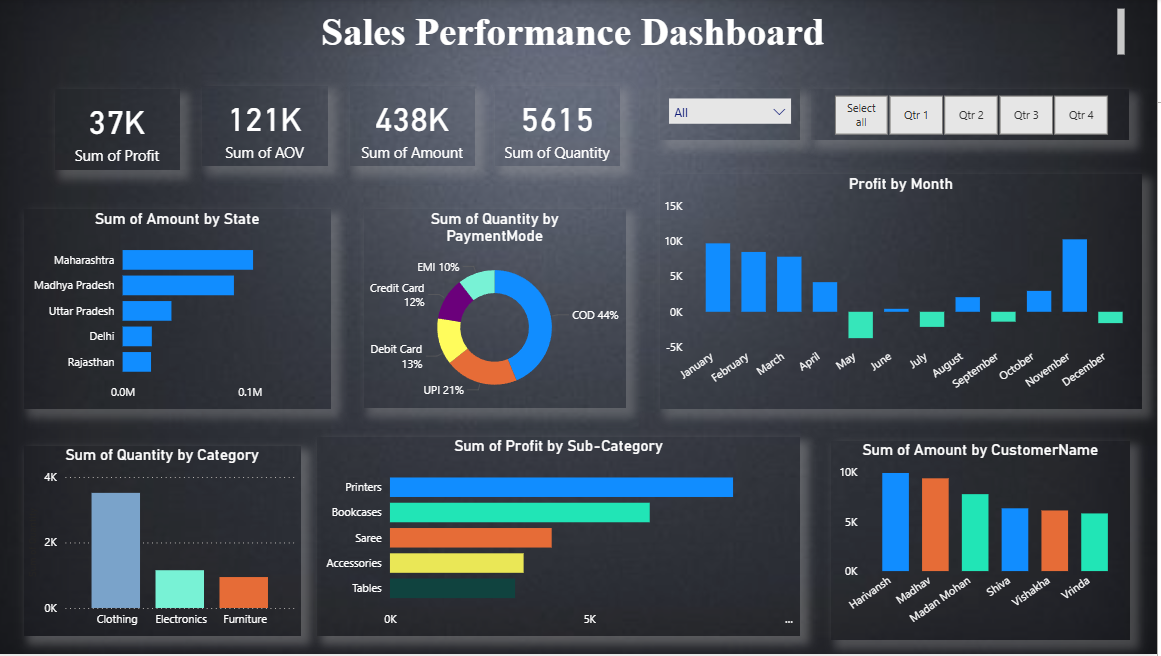

What the dashboard file says about the page in this screenshot:
{"tool":"powerbi","page":{"name":"Page 1","canvas":[1280,720],"ordinal":0},"visuals":[{"type":"textbox","box":[36,6.8,1213.9,68.1],"z":0},{"type":"columnChart","title":"Profit by Month","fields":{"Category":["Orders.Order Date.Variation.Date Hierarchy.Month"],"Y":["Sum(Details.Profit)"]},"box":[734.1,193.5,529.7,258],"z":1000},{"type":"barChart","fields":{"Category":["Details.Sub-Category"],"Y":["Sum(Details.Profit)"]},"box":[358.1,481.6,529.7,218.2],"z":2000},{"type":"columnChart","fields":{"Category":["Details.Category"],"Y":["Sum(Details.Quantity)"]},"box":[35.7,491.3,304.6,208.6],"z":3000},{"type":"donutChart","fields":{"Category":["Details.PaymentMode"],"Y":["Sum(Details.Quantity)"]},"box":[408.9,231.9,288.2,218.2],"z":4000},{"type":"card","fields":{"Values":["Sum(Details.Amount)"]},"box":[394.4,96.3,137.2,89.2],"z":5000},{"type":"card","fields":{"Values":["Sum(Details.Quantity)"]},"box":[553.6,96.3,137.2,89.2],"z":6000},{"type":"card","fields":{"Values":["Sum(Details.Profit)"]},"box":[70.5,100.4,137.2,89.2],"z":7000},{"type":"card","fields":{"Values":["Sum(Details.AOV)"]},"box":[232.5,96.3,137.2,89.2],"z":8000},{"type":"barChart","fields":{"Category":["Orders.State"],"Y":["Sum(Details.Amount)"]},"box":[35.7,231.9,337.6,219.6],"z":9000},{"type":"columnChart","fields":{"Y":["Sum(Details.Amount)"],"Category":["Orders.CustomerName"]},"box":[922.1,485.8,328,219.6],"z":10000},{"type":"slicer","fields":{"Values":["Orders.Order Date.Variation.Date Hierarchy.Quarter"]},"box":[900.2,100.2,349.9,56.3],"z":11000},{"type":"slicer","fields":{"Values":["Orders.State"]},"box":[734.1,100.2,153.7,56.3],"z":12000}]}

Visuals, with their boxes in screenshot pixels (x1, y1, x2, y2), scaled from the page's 1280x720 canvas onto the 1161x656 screenshot:
textbox: (x1=33, y1=6, x2=1134, y2=68)
"Profit by Month" columnChart: (x1=666, y1=176, x2=1146, y2=411)
barChart - Details.Sub-Category x Sum(Details.Profit): (x1=325, y1=439, x2=805, y2=638)
columnChart - Details.Category x Sum(Details.Quantity): (x1=32, y1=448, x2=309, y2=638)
donutChart - Details.PaymentMode x Sum(Details.Quantity): (x1=371, y1=211, x2=632, y2=410)
card - Sum(Details.Amount): (x1=358, y1=88, x2=482, y2=169)
card - Sum(Details.Quantity): (x1=502, y1=88, x2=627, y2=169)
card - Sum(Details.Profit): (x1=64, y1=91, x2=188, y2=173)
card - Sum(Details.AOV): (x1=211, y1=88, x2=335, y2=169)
barChart - Orders.State x Sum(Details.Amount): (x1=32, y1=211, x2=339, y2=411)
columnChart - Sum(Details.Amount) x Orders.CustomerName: (x1=836, y1=443, x2=1134, y2=643)
slicer - Orders.Order Date.Variation.Date Hierarchy.Quarter: (x1=817, y1=91, x2=1134, y2=143)
slicer - Orders.State: (x1=666, y1=91, x2=805, y2=143)
